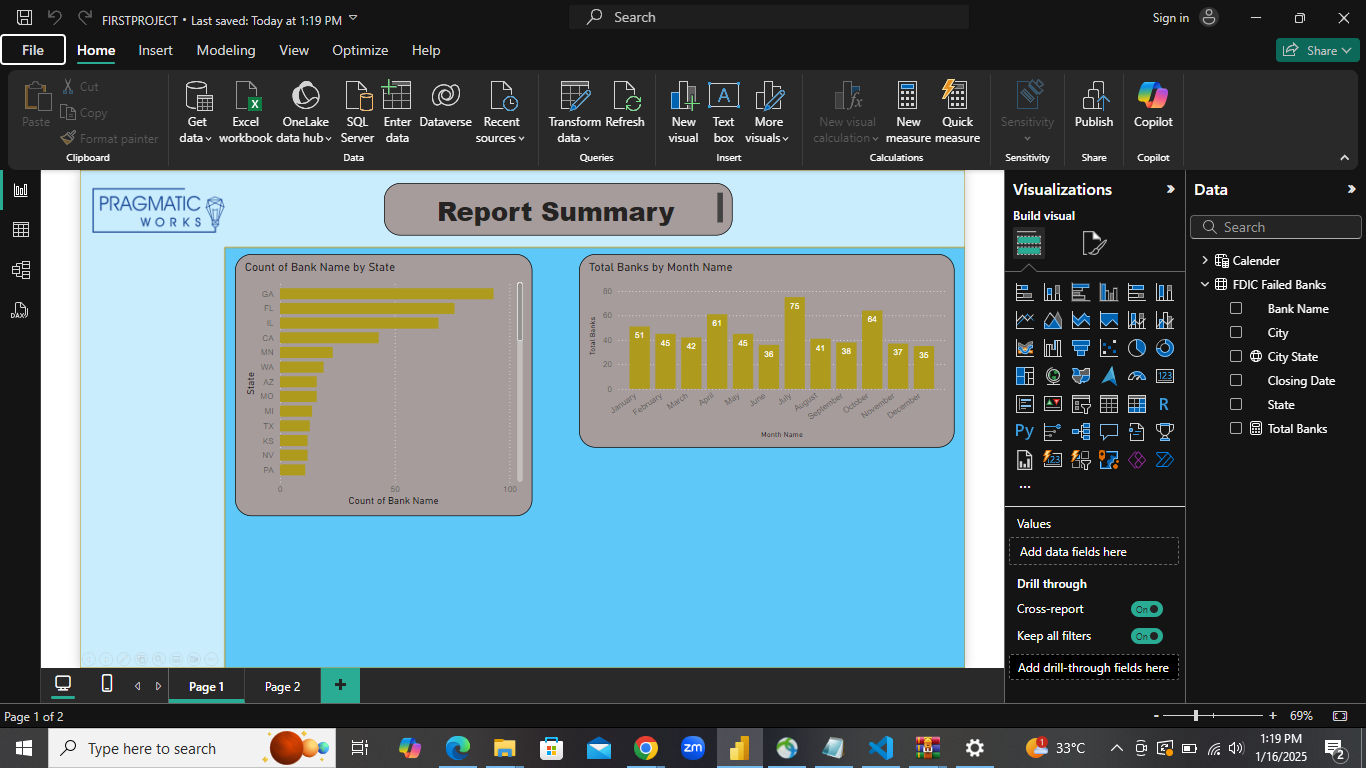

What the dashboard file says about the page in this screenshot:
{"tool":"powerbi","page":{"name":"Page 1","canvas":[1280,720],"ordinal":0},"visuals":[{"type":"barChart","fields":{"Category":["FDIC Failed Banks.State "],"Y":["CountNonNull(FDIC Failed Banks.Bank Name )"]},"box":[224.3,121.4,430,378.6],"z":0},{"type":"columnChart","fields":{"Category":["Calender.Month Name"],"Y":["FDIC Failed Banks.Total Banks"]},"box":[721.4,121.4,542.9,280],"z":1000},{"type":"textbox","box":[440,18.6,504.3,75.7],"z":2000}]}

Visuals, with their boxes on the page's 1280x720 design canvas (x1, y1, x2, y2). These are canvas units, not pixel positions in the 1366x768 screenshot, which may show the page scaled, cropped or inside an application window:
barChart - FDIC Failed Banks.State  x CountNonNull(FDIC Failed Banks.Bank Name ): {"left": 224, "top": 121, "right": 654, "bottom": 500}
columnChart - Calender.Month Name x FDIC Failed Banks.Total Banks: {"left": 721, "top": 121, "right": 1264, "bottom": 401}
textbox: {"left": 440, "top": 19, "right": 944, "bottom": 94}
